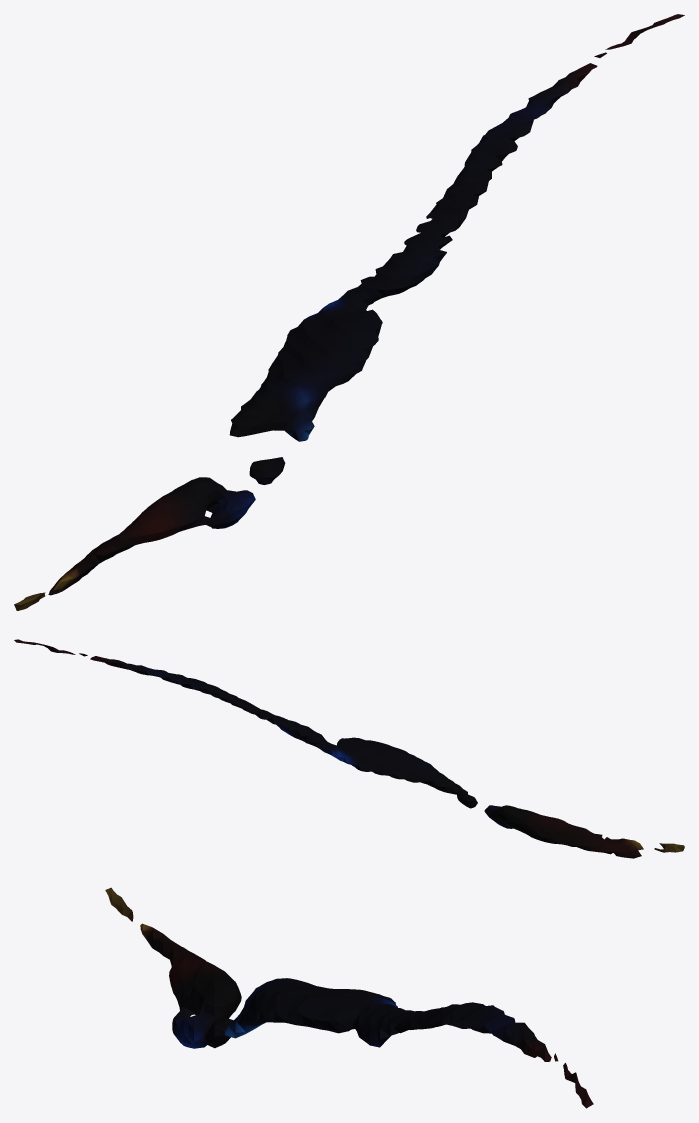
Rendered from Katana_1749667515.obj.
3 views of the same model, one above another, from view 1: azimuth 30°, elevation 25°; view 2: azimuth 150°, elevation 25°; view 3: azimuth 270°, elevation 25° (orthographic). The views are drawn at different scales.
Size of the model in its own units: 1.92 by 0.5715 by 0.7341.
